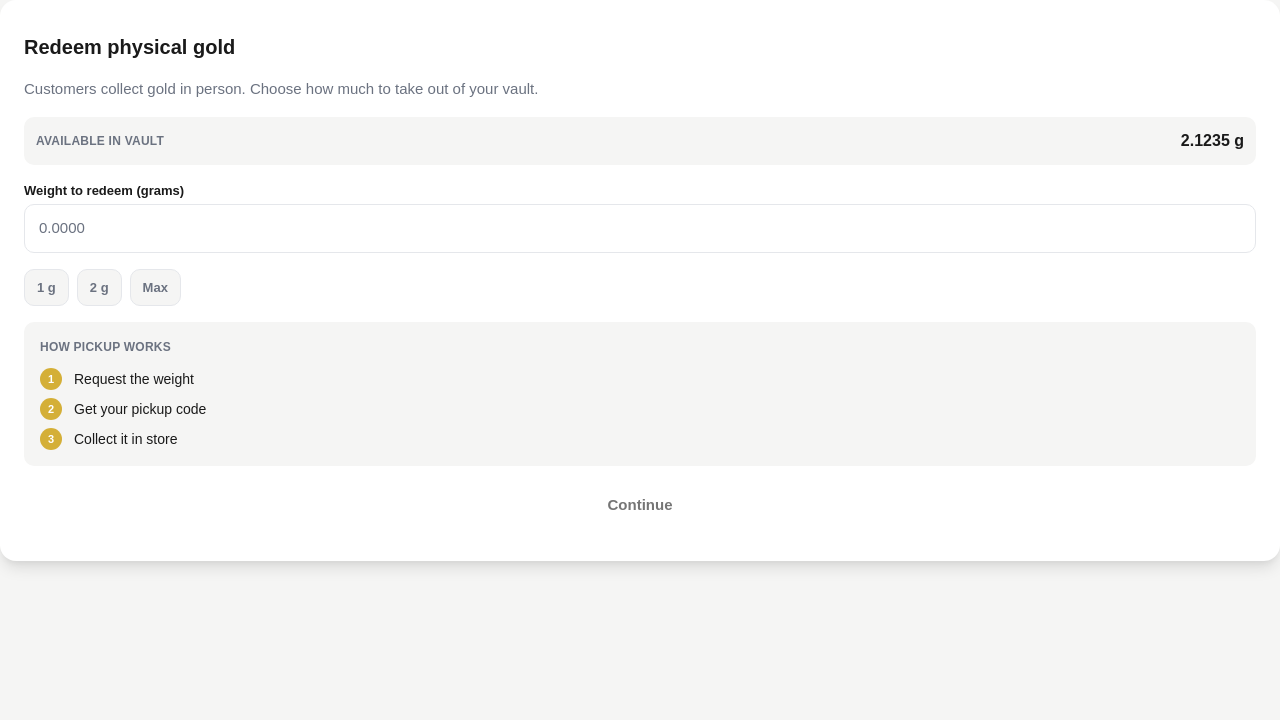
it: RedeemFlow › fills Max with the balance rounded down to 4 decimals
The image size is (1280, 720).
Click the button "Max" at (155, 287), box [130,268,181,306]
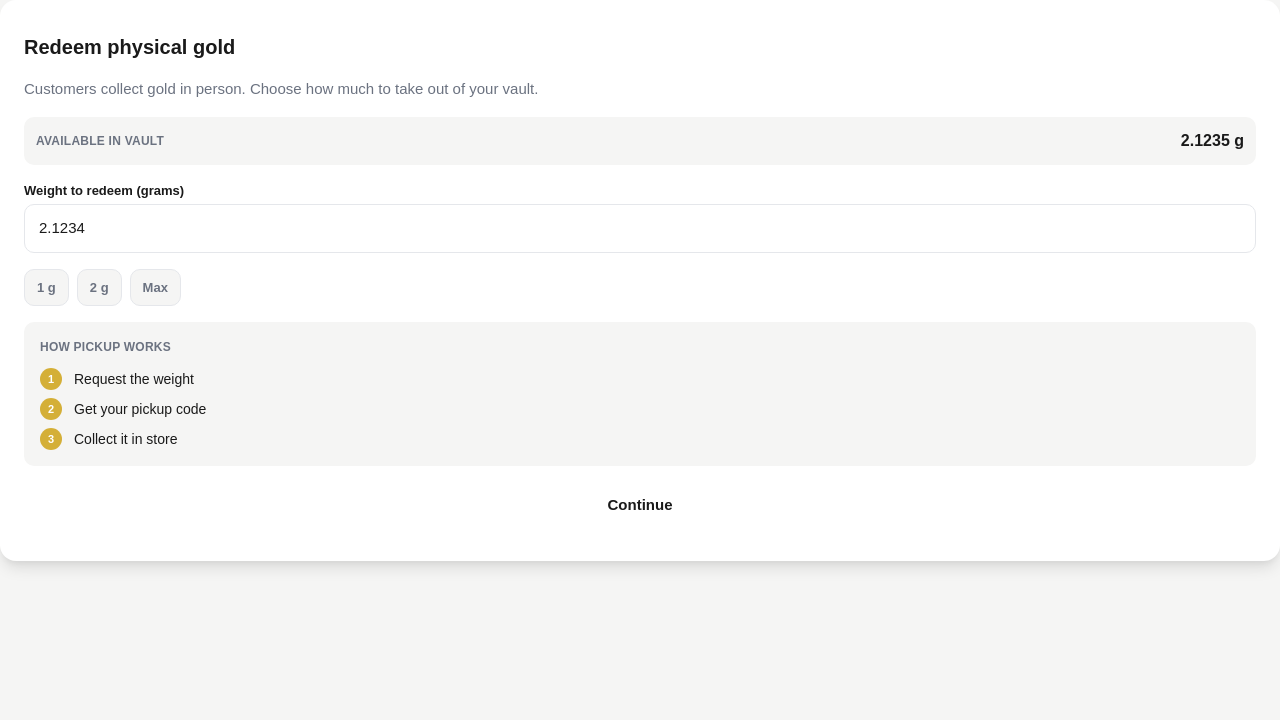
Expected: the field labelled "Weight to redeem (grams)" holds "2.1234", [37,205,1243,252]
